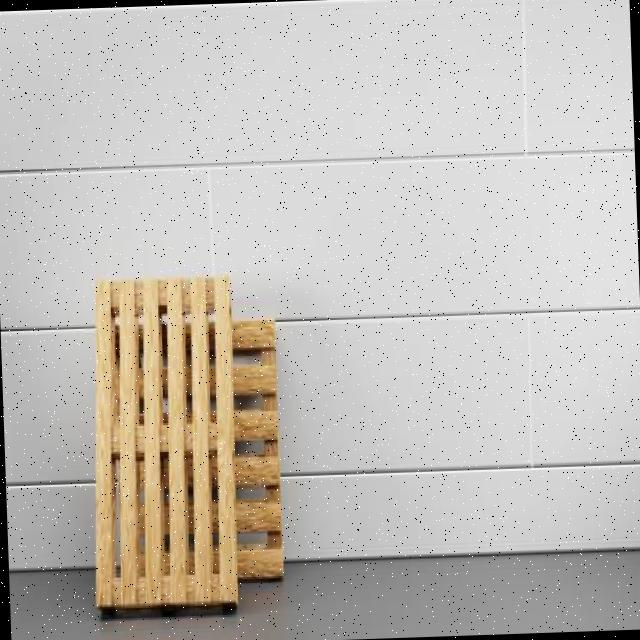Wooden-Pallets: (94, 273, 287, 611), (94, 276, 239, 613)
